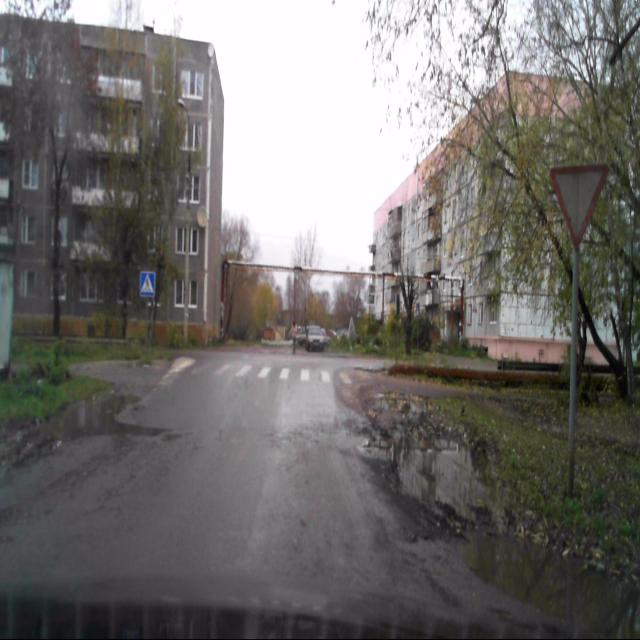road sign: (550, 165, 610, 250), (566, 239, 580, 500), (140, 272, 156, 299)
